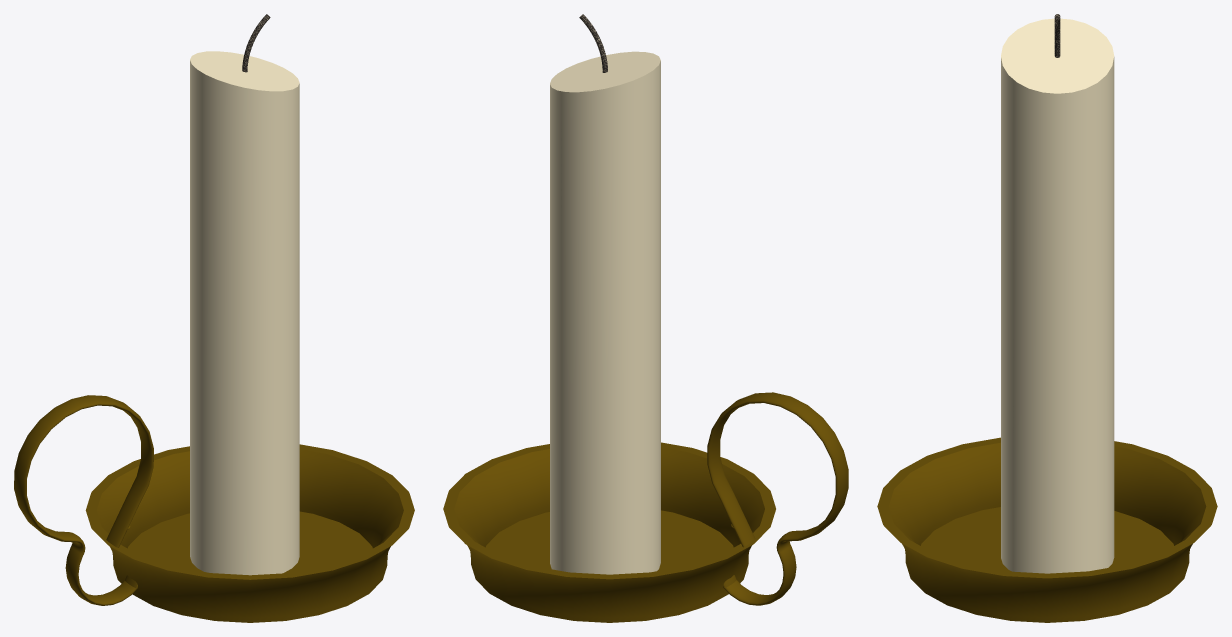
File: candle.dae
3 views of the same model, side by side, from view 1: azimuth 30°, elevation 25°; view 2: azimuth 150°, elevation 25°; view 3: azimuth 270°, elevation 25° (orthographic). The views are drawn at different scales.
Parts seen in each view (by area): view 1: candle, candle_holder (×3); view 2: candle, candle_holder (×3); view 3: candle, candle_holder (×2).
Part boxes in pixels (x1=…): candle: x1=190, y1=51, x2=299, y2=575; candle_holder (×3): x1=14, y1=395, x2=414, y2=622; candle: x1=550, y1=51, x2=660, y2=574; candle_holder (×3): x1=443, y1=392, x2=848, y2=622; candle: x1=1001, y1=18, x2=1114, y2=573; candle_holder (×2): x1=877, y1=437, x2=1217, y2=622.
Bounding box in the file's own units: 94.78 × 72 × 132.
